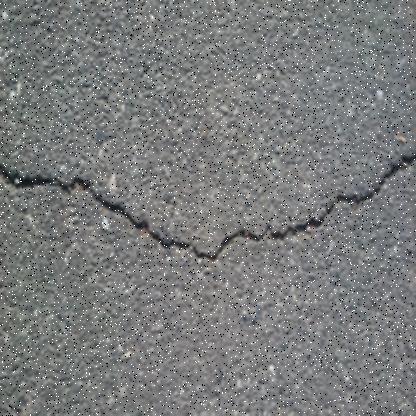Cracks: (0, 144, 415, 274)
